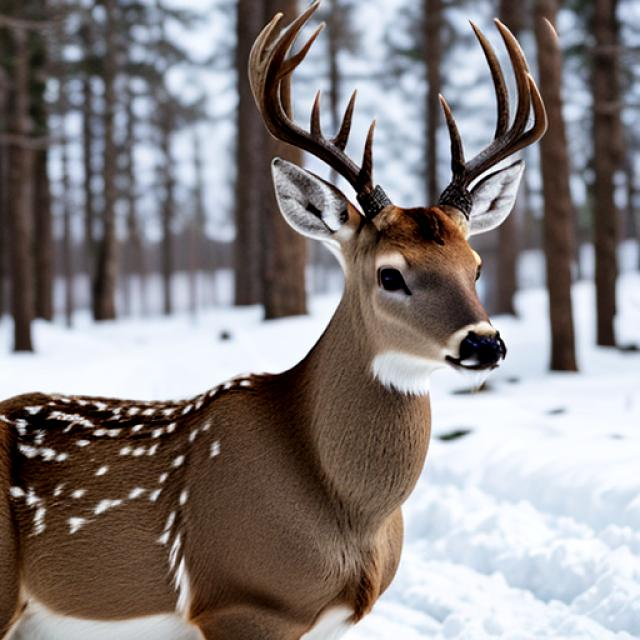deer: (127, 13, 584, 457)
